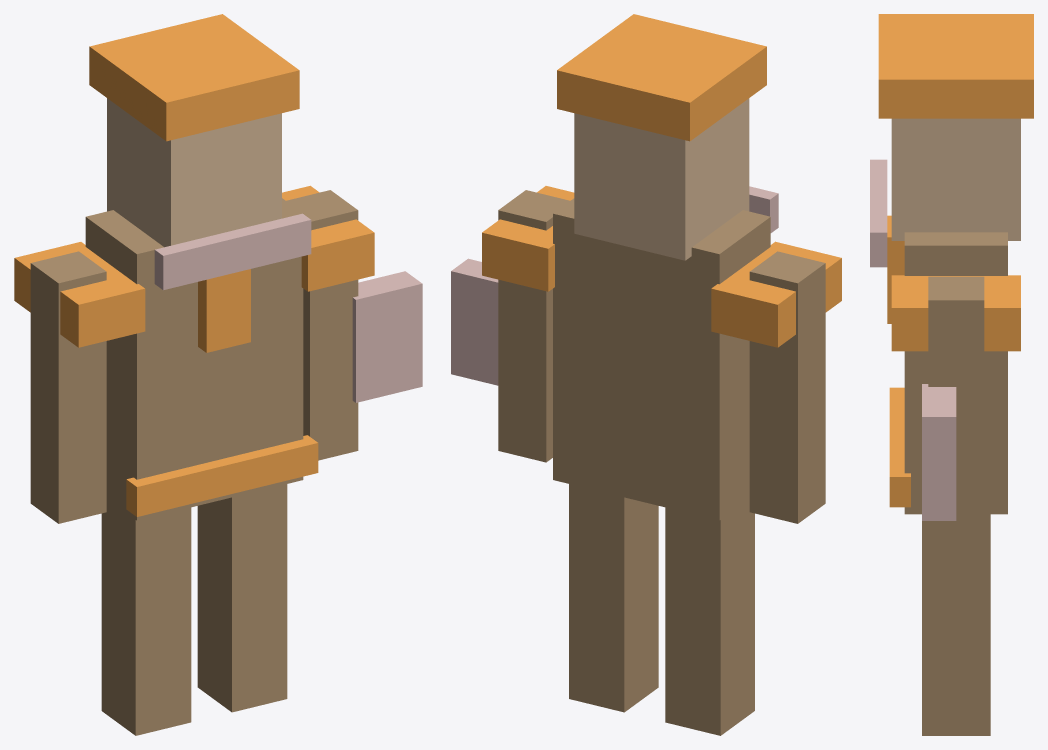
File: 17_vale_stormhush_archivist_from_wind.glb
3 views of the same model, side by side, from view 1: azimuth 30°, elevation 25°; view 2: azimuth 150°, elevation 25°; view 3: azimuth 270°, elevation 25° (orthographic).
Parts seen in each view (by area): view 1: Vale Stormhush, Archivist from Wind; view 2: Vale Stormhush, Archivist from Wind; view 3: Vale Stormhush, Archivist from Wind.
Boxes of the visible parts, x1,y1,x2,y2 form: Vale Stormhush, Archivist from Wind: (14,14,422,735); Vale Stormhush, Archivist from Wind: (451,14,841,735); Vale Stormhush, Archivist from Wind: (870,14,1033,735).
Bounding box in the file's own units: 0.9928 × 1.7 × 0.3869.
